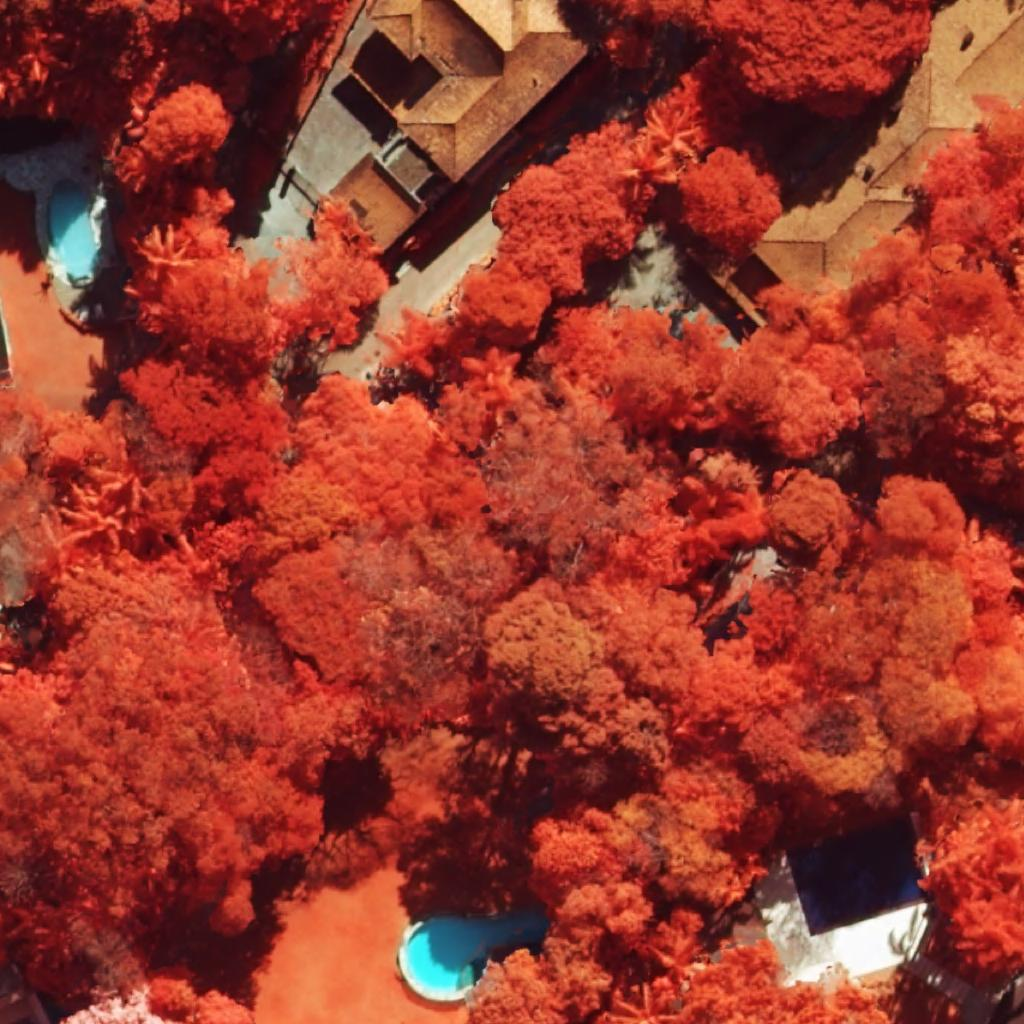pool: (786, 814, 927, 936), (404, 913, 550, 992), (48, 178, 98, 281)
